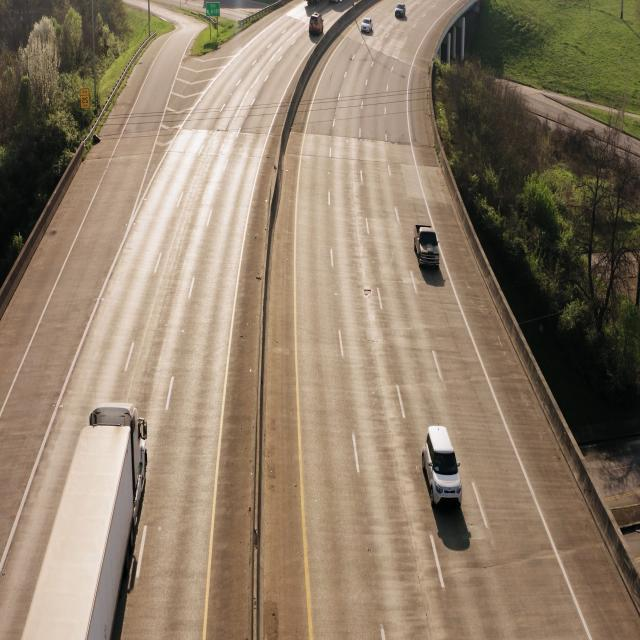Car: (18, 401, 150, 640), (419, 426, 462, 520), (411, 224, 442, 277), (308, 11, 324, 39)
